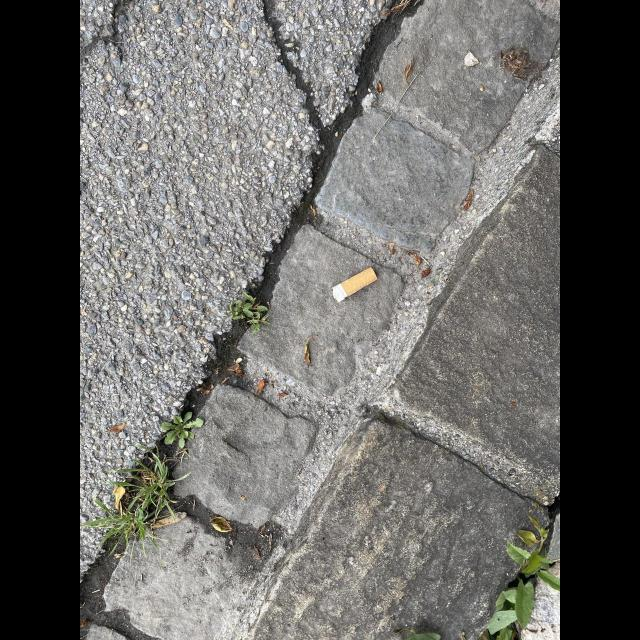cigarette: (330, 266, 378, 302)
